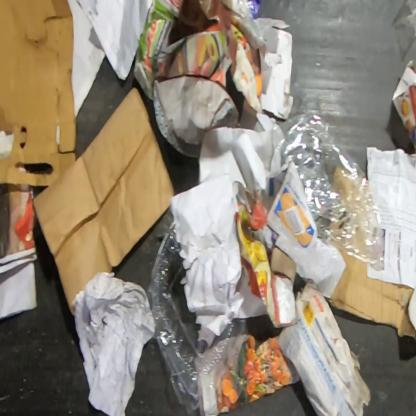cardboard: (30, 85, 177, 317), (0, 0, 77, 188), (275, 281, 372, 416), (152, 0, 263, 114), (234, 187, 298, 329), (328, 249, 415, 341), (152, 74, 242, 162), (254, 17, 295, 121), (391, 58, 416, 155)
rigid_plastic: (145, 218, 248, 415), (392, 0, 415, 39)
soft_plastic: (271, 111, 385, 272), (220, 0, 264, 19)
